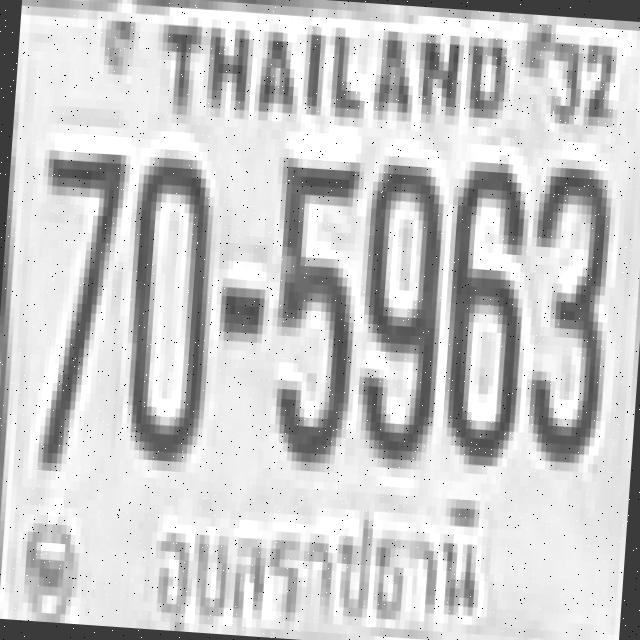0: (115, 146, 217, 454)
3: (516, 157, 614, 455)
5: (261, 148, 358, 454)
6: (436, 152, 528, 458)
7: (22, 140, 122, 465)
9: (349, 154, 446, 461)
UbonRatchathani: (131, 474, 493, 640)
